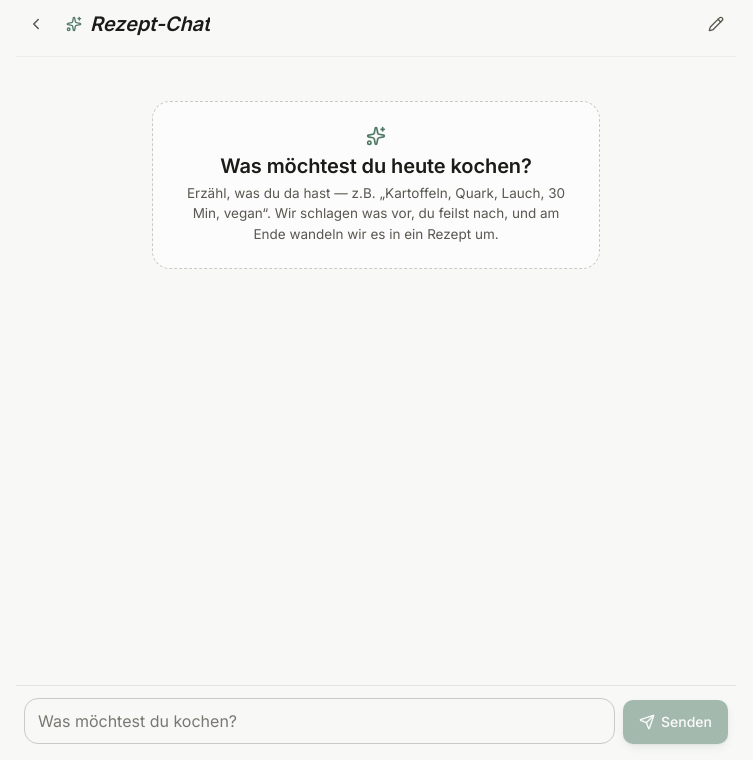
<ChatPage /> — abort + retry › shows the error banner + Erneut versuchen on a stream error event
This screenshot has width=753, height=760.
(page scrolled)
Type "Hi" into the text box named "Nachricht" at x=320, y=721, box left=24, top=698, right=615, bottom=744
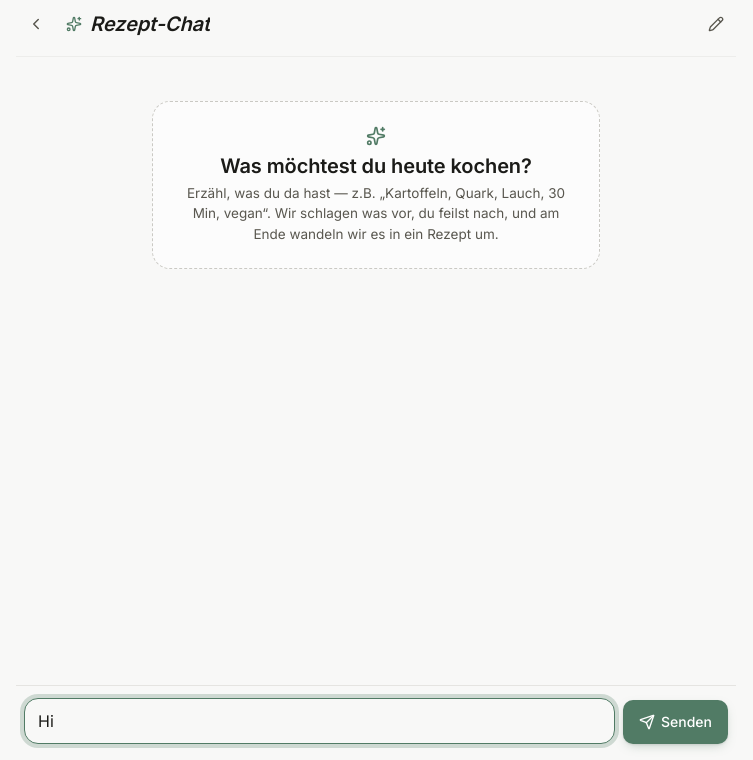
Click the button "Senden" at x=676, y=722, box left=623, top=700, right=728, bottom=744
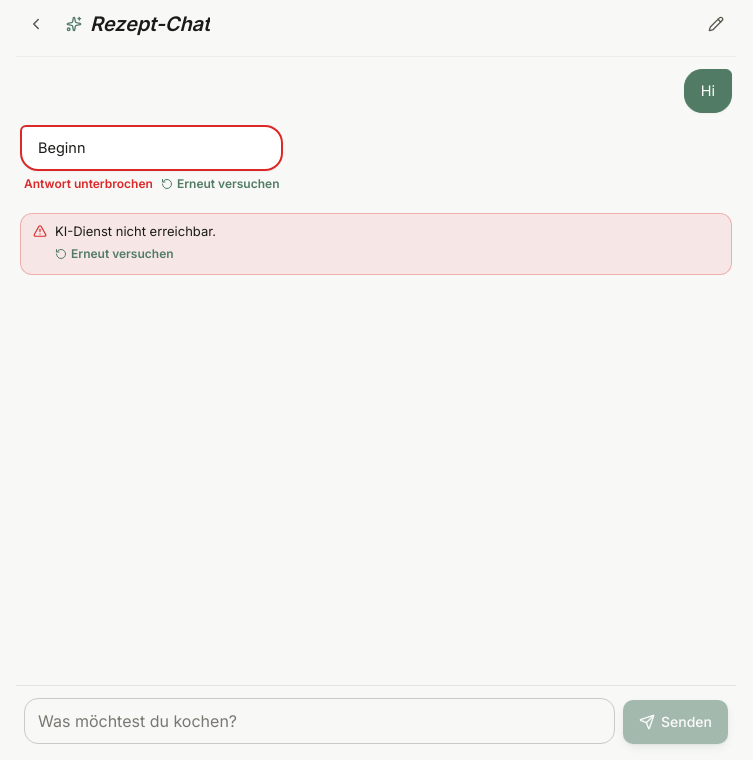
Check: the message shows "KI-Dienst nicht erreichbar.", box left=55, top=222, right=216, bottom=238
